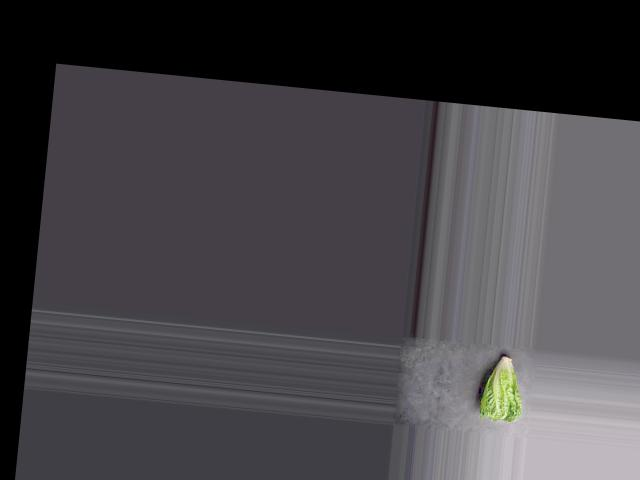lettuce: (476, 349, 529, 423)
